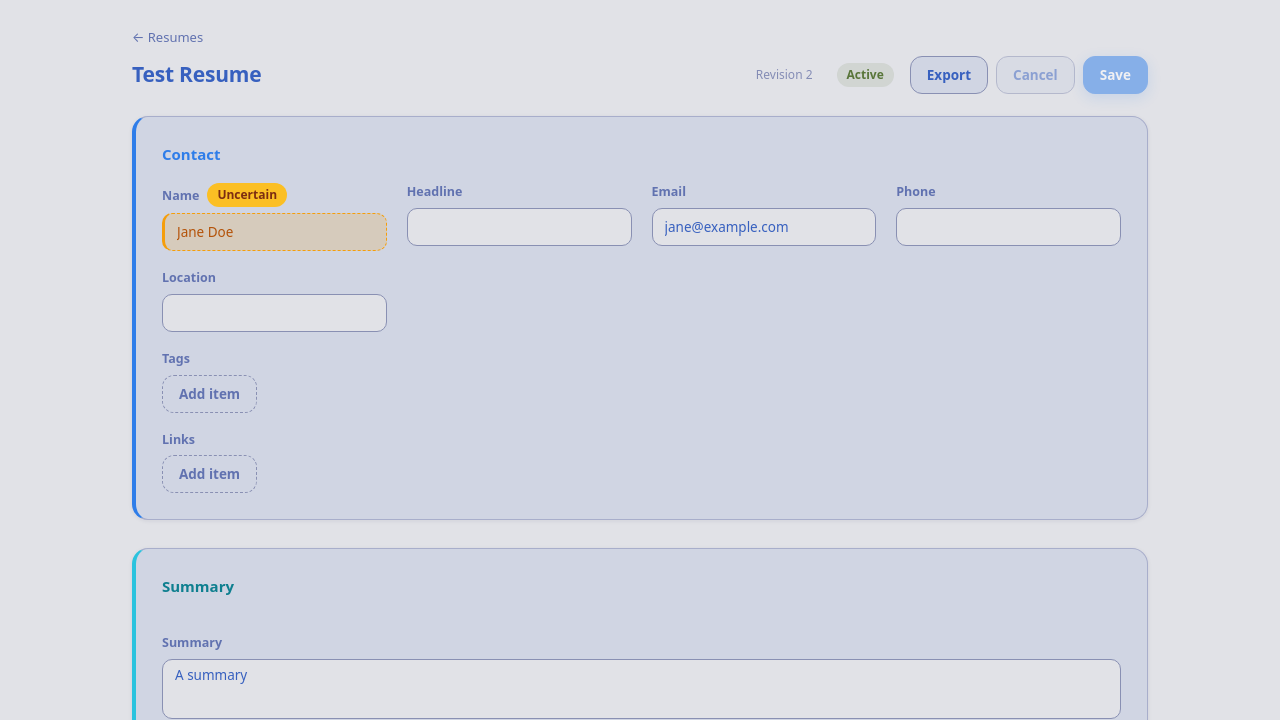
Test: ResumeEditor › disables Save while pristine and while pending
The image size is (1280, 720).
Check: the field named "Name (unverified)" is shown, box x1=162 y1=213 x2=387 y2=251
Check: the button "Save" is disabled, box x1=1083 y1=56 x2=1148 y2=94
Step 1. Replace the text in the field labelled "Email" with "x@y.z" → (764, 227), box x1=652 y1=208 x2=876 y2=246
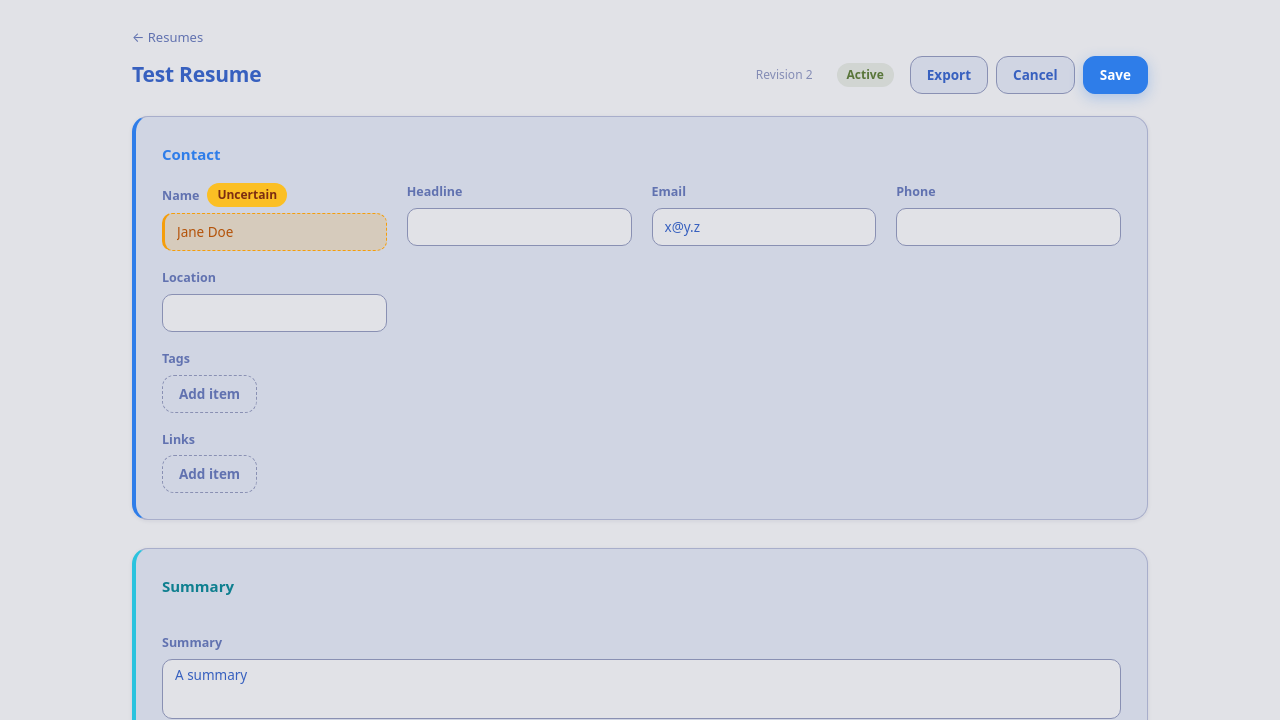
Check: the button "Save" is enabled
Step 2. Click the button "Save" → (1115, 74), box x1=1083 y1=56 x2=1148 y2=94
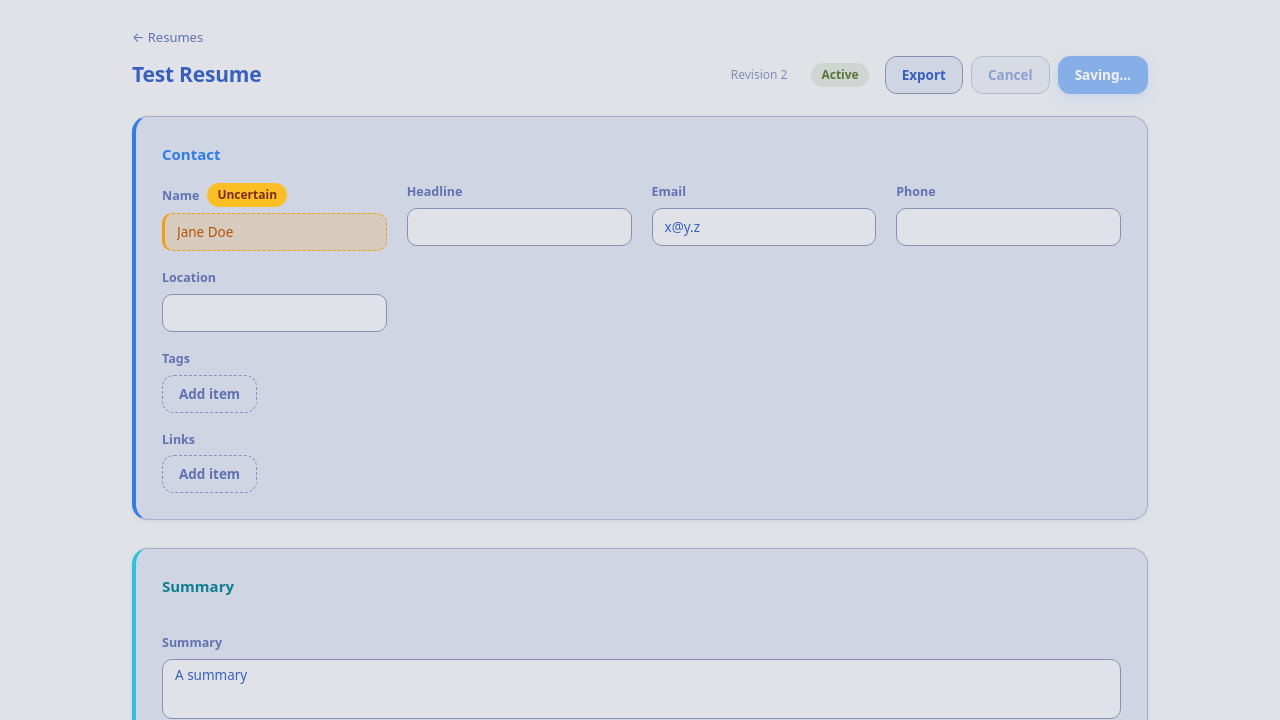
Check: the button "Saving…" is disabled, box x1=1058 y1=56 x2=1148 y2=94
